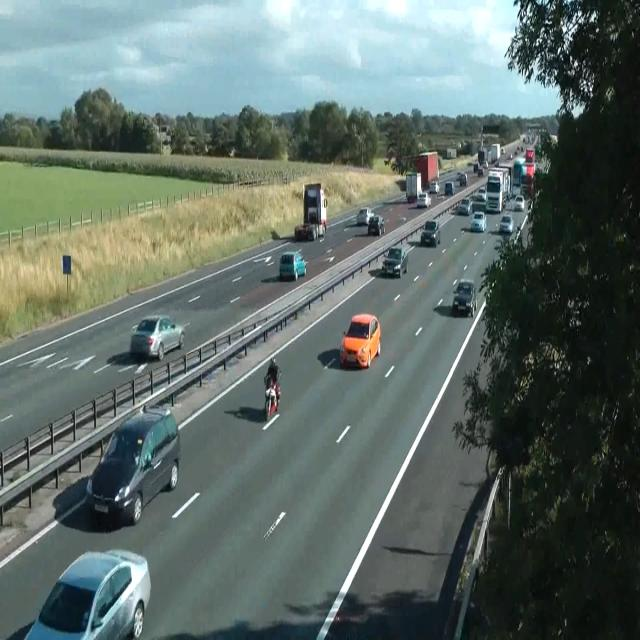bus: (24, 548, 151, 639), (130, 315, 185, 361), (339, 313, 381, 369), (452, 278, 476, 318), (279, 250, 306, 281), (382, 246, 408, 278), (420, 220, 440, 247), (294, 222, 316, 241), (507, 226, 522, 250), (368, 214, 384, 236), (470, 211, 486, 232), (356, 207, 374, 225), (499, 214, 514, 234), (417, 190, 431, 208), (458, 197, 472, 215), (513, 194, 525, 212), (444, 180, 454, 196), (476, 185, 486, 201), (457, 172, 467, 186), (429, 180, 439, 194), (474, 162, 484, 175)
jeep: (85, 406, 181, 526)
lorry: (263, 367, 281, 421)
minibus: (294, 181, 328, 241), (484, 167, 510, 213), (413, 151, 439, 193), (406, 171, 430, 207), (158, 124, 172, 154)
